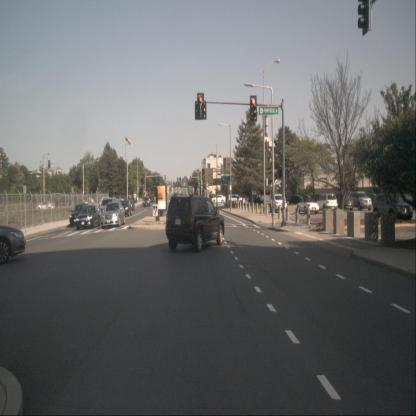vehicle-car: (165, 192, 225, 254), (372, 192, 413, 222), (0, 223, 27, 266), (100, 202, 126, 229), (76, 204, 101, 231), (69, 203, 90, 228), (315, 193, 338, 213), (97, 196, 117, 218), (332, 192, 354, 211), (297, 197, 319, 215), (269, 194, 287, 213), (119, 200, 133, 216), (366, 192, 382, 206), (227, 194, 245, 206), (248, 193, 264, 205), (289, 194, 305, 205), (211, 194, 227, 204), (37, 201, 54, 210), (113, 195, 124, 204), (127, 199, 135, 211), (83, 197, 94, 204), (143, 197, 150, 207), (149, 194, 155, 204)
vehicle-truck: (349, 190, 372, 211)
